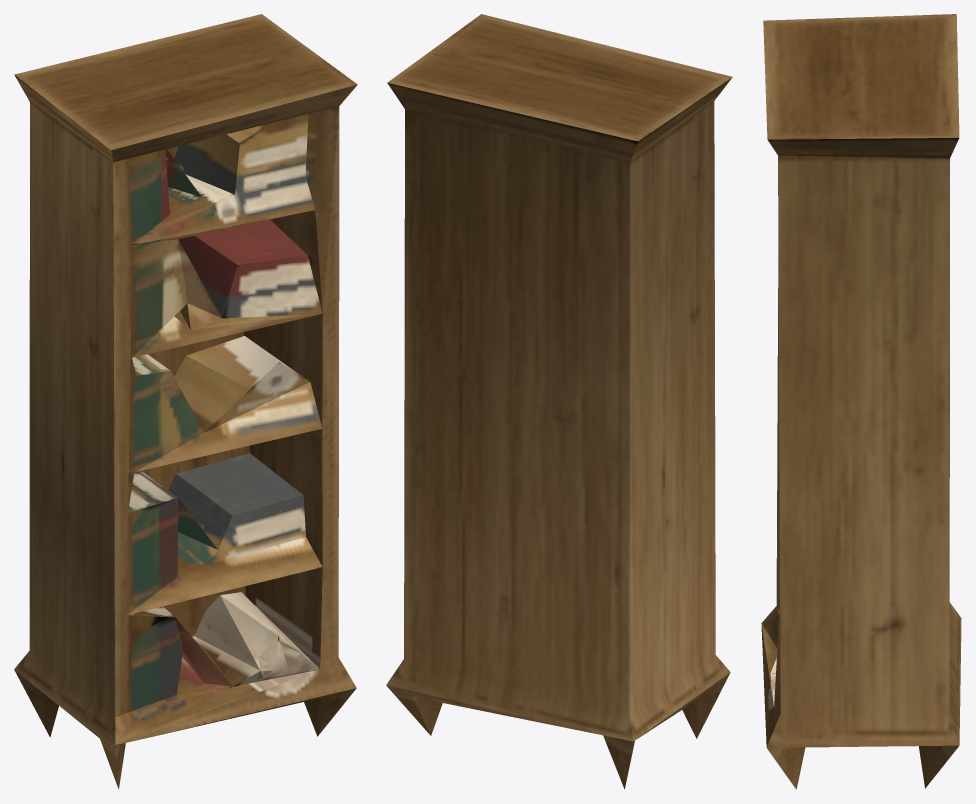
The model's file is bookshelf_lod0.glb.
3 renders of one model, left to right at view 1: azimuth 30°, elevation 25°; view 2: azimuth 150°, elevation 25°; view 3: azimuth 270°, elevation 25°, orthographic.
Visible parts, largest first — view 1: low; view 2: low; view 3: low.
Boxes of the visible parts, <box> form: low: <box>14,14,357,789</box>; low: <box>386,14,732,789</box>; low: <box>761,14,961,789</box>.
Size of the model in its own units: 1.69 by 4.27 by 1.16.
Materials: 1 (1 with a texture image).
